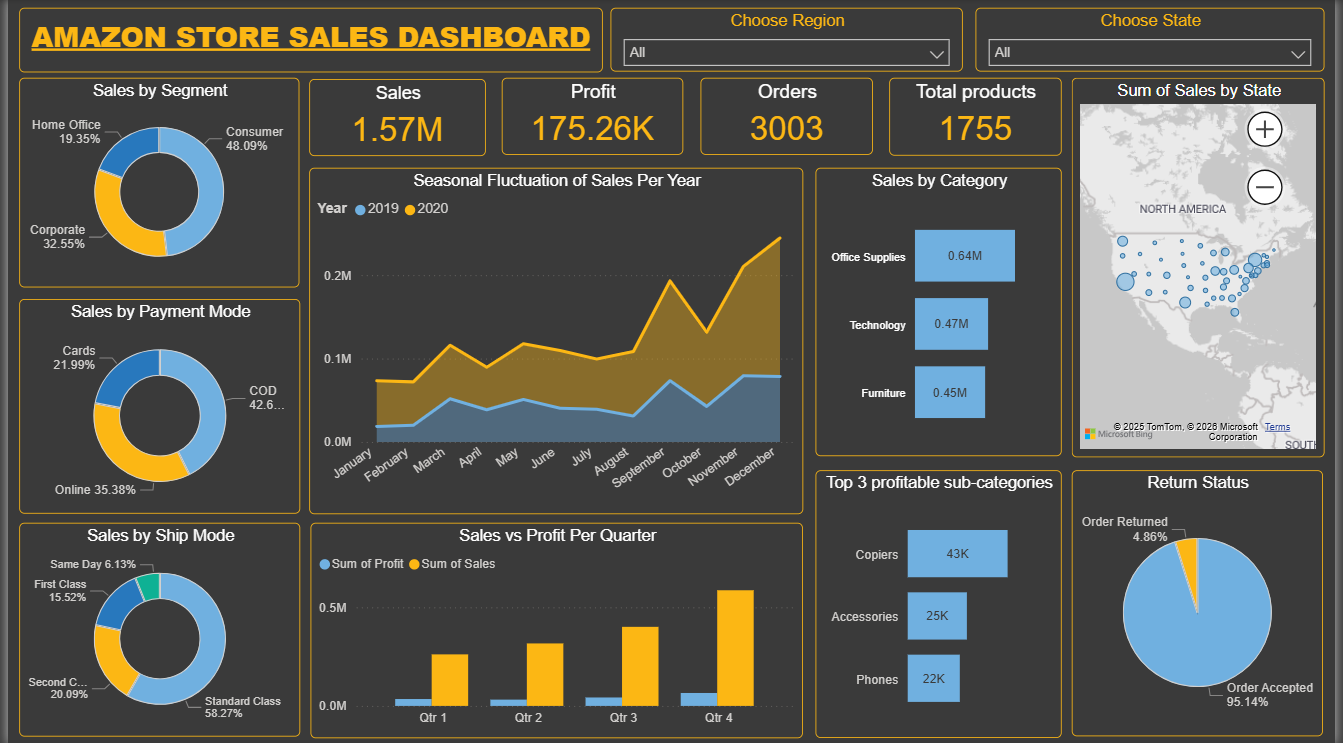

What the dashboard file says about the page in this screenshot:
{"tool":"powerbi","page":{"name":"Page 1","canvas":[1280,720],"ordinal":0},"visuals":[{"type":"card","title":"Sales","fields":{"Values":["Sum(Amazon Store Sales Data xlsx - Sheet1 (1).Sales)"]},"box":[290.8,77.2,170.1,74.8],"z":0},{"type":"card","title":"Profit","fields":{"Values":["Sum(Amazon Store Sales Data xlsx - Sheet1 (1).Profit)"]},"box":[476.5,76,174.9,74.8],"z":1000},{"type":"card","title":"Total products","fields":{"Values":["Count(Amazon Store Sales Data xlsx - Sheet1 (1).Product ID)"]},"box":[850.8,75.5,166,75.5],"z":2000},{"type":"card","title":"Orders","fields":{"Values":["Count(Amazon Store Sales Data xlsx - Sheet1 (1).Order ID)"]},"box":[668.4,76,166.5,74.8],"z":3000},{"type":"clusteredBarChart","title":"Sales by Category","fields":{"Category":["Amazon Store Sales Data xlsx - Sheet1 (1).Category"],"Y":["Sum(Amazon Store Sales Data xlsx - Sheet1 (1).Sales)"]},"box":[779.4,162.9,237.7,278.7],"z":4000},{"type":"clusteredBarChart","title":"Top 3 profitable sub-categories","fields":{"Category":["Amazon Store Sales Data xlsx - Sheet1 (1).Sub-Category"],"Y":["Sum(Amazon Store Sales Data xlsx - Sheet1 (1).Profit)"]},"box":[779.4,454.8,237.7,258.2],"z":5000},{"type":"donutChart","title":"Sales by Segment","fields":{"Y":["Sum(Amazon Store Sales Data xlsx - Sheet1 (1).Sales)"],"Category":["Amazon Store Sales Data xlsx - Sheet1 (1).Segment"]},"box":[10.9,76,270.2,202.7],"z":6000},{"type":"donutChart","title":"Sales by Payment Mode","fields":{"Y":["Sum(Amazon Store Sales Data xlsx - Sheet1 (1).Sales)"],"Category":["Amazon Store Sales Data xlsx - Sheet1 (1).Payment Mode"]},"box":[10.9,289.5,271.4,207.5],"z":7000},{"type":"donutChart","title":"Sales by Ship Mode","fields":{"Y":["Sum(Amazon Store Sales Data xlsx - Sheet1 (1).Sales)"],"Category":["Amazon Store Sales Data xlsx - Sheet1 (1).Ship Mode"]},"box":[10.9,505.5,271.4,206.3],"z":8000},{"type":"textbox","box":[10.9,8.4,563.4,62.7],"z":9000},{"type":"lineClusteredColumnComboChart","title":"Sales vs Profit Per Quarter","fields":{"Y":["Sum(Amazon Store Sales Data xlsx - Sheet1 (1).Profit)","Sum(Amazon Store Sales Data xlsx - Sheet1 (1).Sales)"],"Category":["Amazon Store Sales Data xlsx - Sheet1 (1).Order Date.Variation.Date Hierarchy.Quarter"]},"box":[292.2,505.6,475.6,207.8],"z":10000},{"type":"stackedAreaChart","title":"Seasonal Fluctuation of Sales Per Year","fields":{"Category":["Amazon Store Sales Data xlsx - Sheet1 (1).Order Date.Variation.Date Hierarchy.Month"],"Y":["Sum(Amazon Store Sales Data xlsx - Sheet1 (1).Sales)"],"Series":["Amazon Store Sales Data xlsx - Sheet1 (1).Order Date.Variation.Date Hierarchy.Year"]},"box":[290.8,162.9,476.5,334.2],"z":11000},{"type":"pieChart","title":"Return Status","fields":{"Category":["Amazon Store Sales Data xlsx - Sheet1 (1).return value"],"Y":["CountNonNull(Amazon Store Sales Data xlsx - Sheet1 (1).Order ID)"]},"box":[1026.7,454.8,242.5,257],"z":12000},{"type":"map","fields":{"Category":["Amazon Store Sales Data xlsx - Sheet1 (1).State"],"Size":["Sum(Amazon Store Sales Data xlsx - Sheet1 (1).Sales)"]},"box":[1026.4,75.5,244.3,366.4],"z":13000},{"type":"slicer","title":"Choose State","fields":{"Values":["Amazon Store Sales Data xlsx - Sheet1 (1).State"]},"box":[933.8,8.4,336.6,61.5],"z":14000},{"type":"slicer","title":"Choose Region","fields":{"Values":["Amazon Store Sales Data xlsx - Sheet1 (1).Region"]},"box":[581.5,8.4,340.2,61.5],"z":14001}]}

Visuals, with their boxes in screenshot pixels (x1, y1, x2, y2), scaled from the page's 1280x720 canvas onto the 1343x743 screenshot:
"Sales" card: [305, 80, 484, 157]
"Profit" card: [500, 78, 683, 156]
"Total products" card: [893, 78, 1067, 156]
"Orders" card: [701, 78, 876, 156]
"Sales by Category" clusteredBarChart: [818, 168, 1067, 456]
"Top 3 profitable sub-categories" clusteredBarChart: [818, 469, 1067, 736]
"Sales by Segment" donutChart: [11, 78, 295, 288]
"Sales by Payment Mode" donutChart: [11, 299, 296, 513]
"Sales by Ship Mode" donutChart: [11, 522, 296, 735]
textbox: [11, 9, 603, 73]
"Sales vs Profit Per Quarter" lineClusteredColumnComboChart: [307, 522, 806, 736]
"Seasonal Fluctuation of Sales Per Year" stackedAreaChart: [305, 168, 805, 513]
"Return Status" pieChart: [1077, 469, 1332, 735]
map - Amazon Store Sales Data xlsx - Sheet1 (1).State x Sum(Amazon Store Sales Data xlsx - Sheet1 (1).Sales): [1077, 78, 1333, 456]
"Choose State" slicer: [980, 9, 1333, 72]
"Choose Region" slicer: [610, 9, 967, 72]
